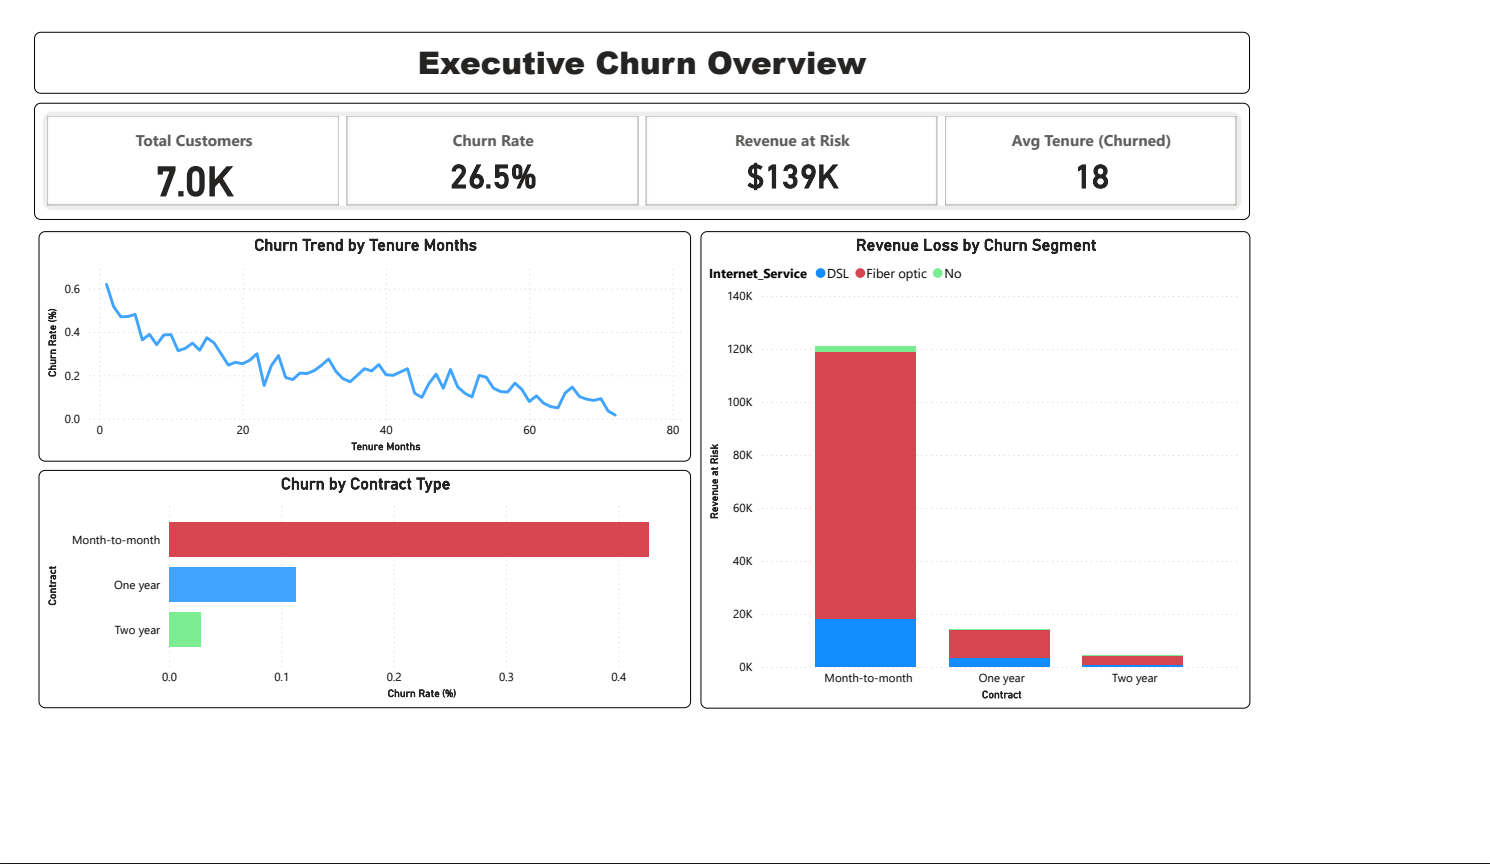

Layout of this report page (visuals, bound fields, positions):
{"tool":"powerbi","page":{"name":"Executive Churn Overview","canvas":[1280,720],"ordinal":0},"visuals":[{"type":"cardVisual","fields":{"Data":["telco_customer_db telco_customer_churn.Total Customers","telco_customer_db telco_customer_churn.Churn Rate (%)","telco_customer_db telco_customer_churn.Revenue at Risk","telco_customer_db telco_customer_churn.Avg Tenure (Churned)"]},"box":[9.8,80.3,1256.2,120.5],"z":0},{"type":"lineChart","title":"Churn Trend by Tenure Months","fields":{"Y":["telco_customer_db telco_customer_churn.Churn Rate (%)"],"Category":["telco_customer_db telco_customer_churn.Tenure_Months"]},"box":[13.7,212.4,674,237.6],"z":1000},{"type":"clusteredBarChart","title":"Churn by Contract Type","fields":{"Category":["telco_customer_db telco_customer_churn.Contract"],"Y":["telco_customer_db telco_customer_churn.Churn Rate (%)"]},"box":[13.7,459.5,674,246],"z":2000},{"type":"textbox","box":[9.8,6.9,1256.2,63.7],"z":3000},{"type":"columnChart","title":"Revenue Loss by Churn Segment ","fields":{"Category":["telco_customer_db telco_customer_churn.Contract"],"Y":["telco_customer_db telco_customer_churn.Revenue at Risk"],"Series":["telco_customer_db telco_customer_churn.Internet_Service"]},"box":[698.1,212.4,567.8,493.1],"z":4000}]}

Visuals, with their boxes in screenshot pixels (x1, y1, x2, y2), scaled from the page's 1280x720 canvas onto the 1490x864 screenshot:
cardVisual - telco_customer_db telco_customer_churn.Total Customers x telco_customer_db telco_customer_churn.Churn Rate (%): box(11, 96, 1474, 241)
"Churn Trend by Tenure Months" lineChart: box(16, 255, 801, 540)
"Churn by Contract Type" clusteredBarChart: box(16, 551, 801, 847)
textbox: box(11, 8, 1474, 85)
"Revenue Loss by Churn Segment " columnChart: box(813, 255, 1474, 847)
